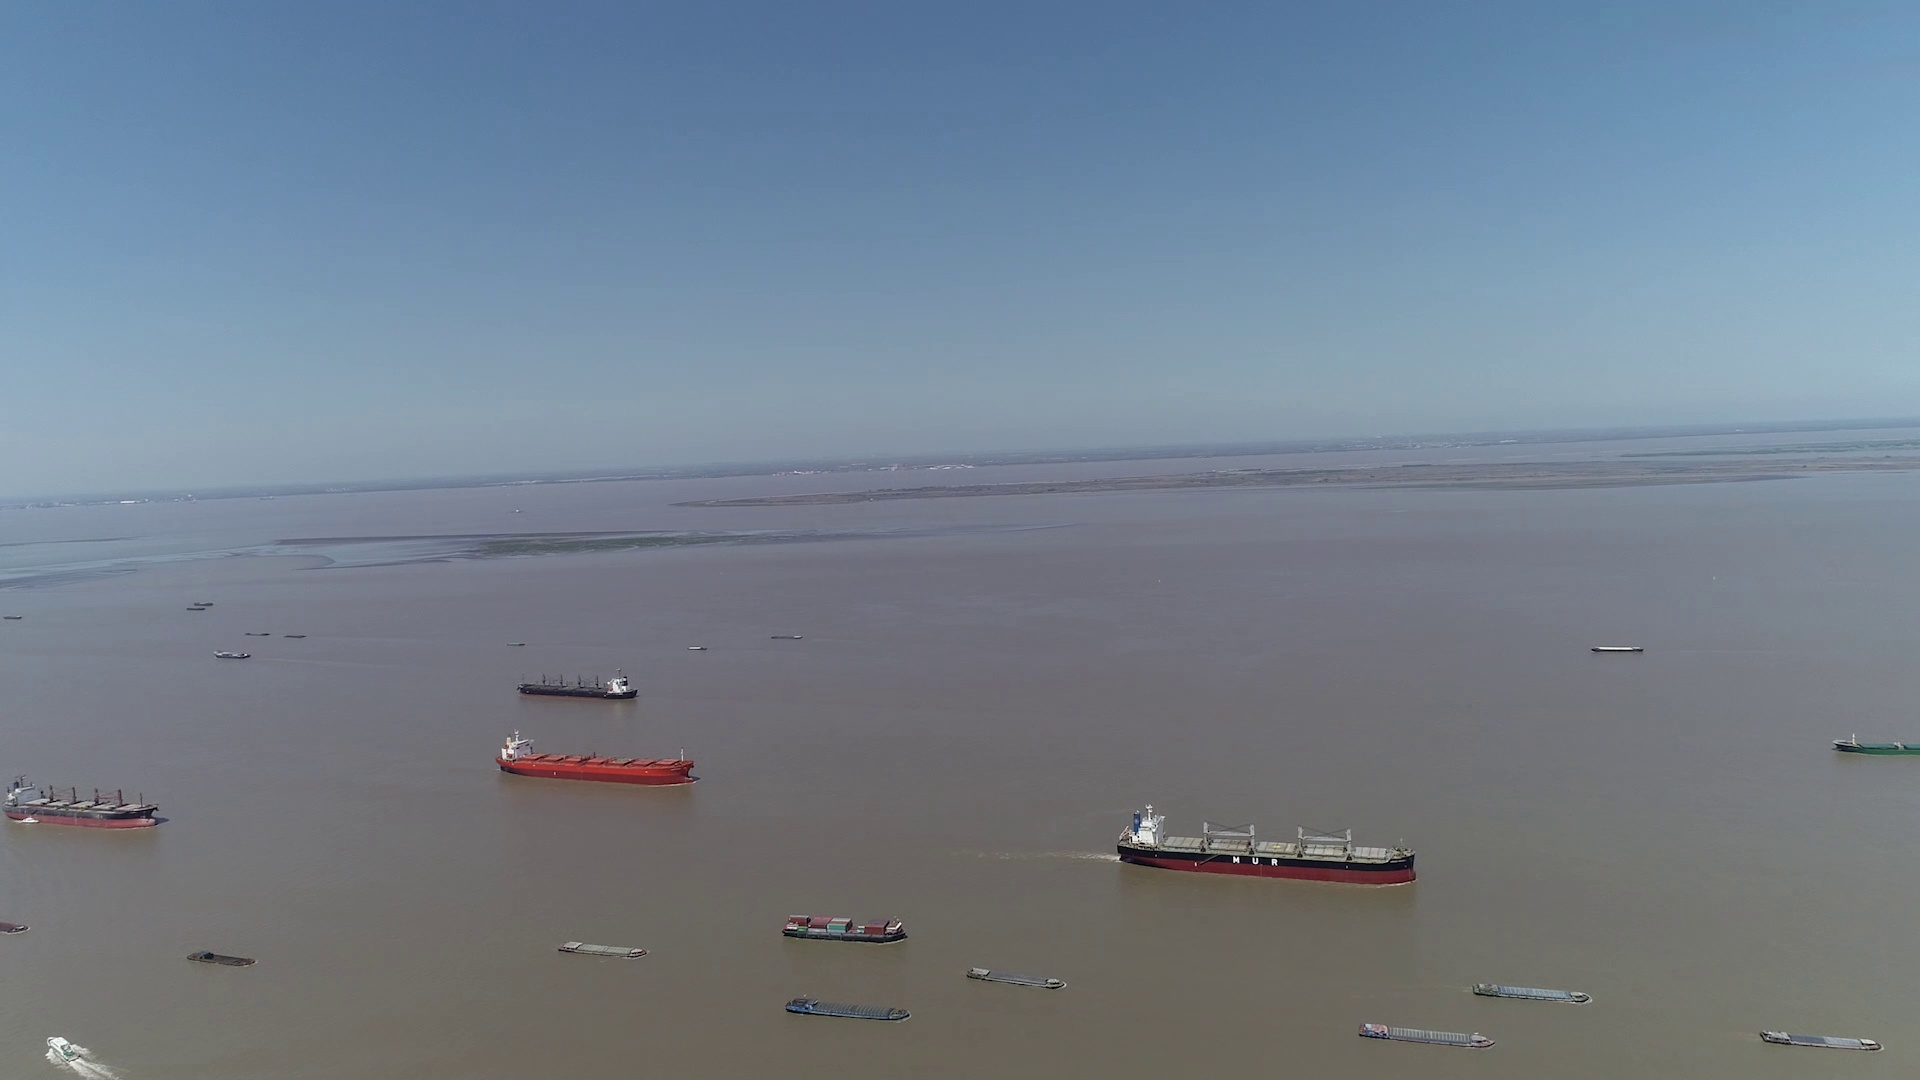ship: (1117, 802, 1418, 886), (493, 731, 699, 786), (1, 774, 160, 832), (781, 913, 906, 943), (1358, 1021, 1495, 1048), (514, 669, 637, 696), (785, 996, 913, 1021), (1760, 1027, 1883, 1051), (1474, 980, 1593, 1004), (967, 967, 1065, 989), (1832, 733, 1919, 757), (556, 940, 647, 959), (185, 951, 256, 967), (42, 1038, 84, 1063), (0, 919, 29, 934), (1592, 645, 1644, 653), (214, 649, 253, 659)
